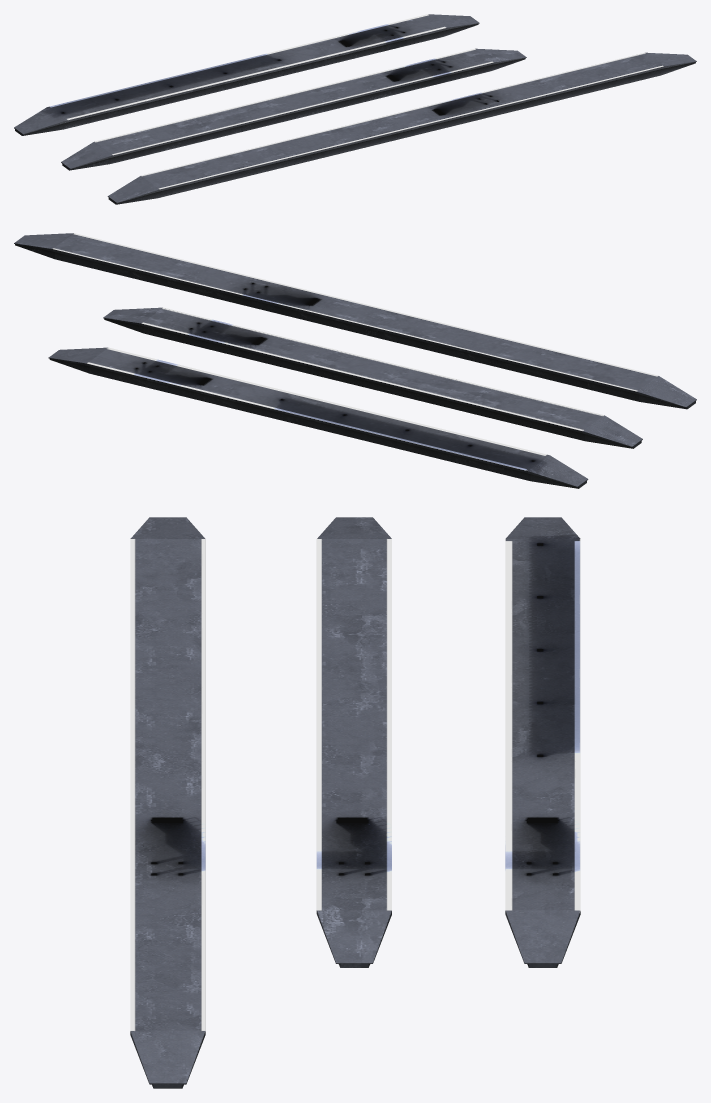
Rendered from station.gltf.
The picture shows the model from 3 angles, top to bottom: view 1: azimuth 30°, elevation 25°; view 2: azimuth 150°, elevation 25°; view 3: azimuth 270°, elevation 25°; orthographic projection. The views are drawn at different scales.
Parts seen in each view (by area): view 1: Cube.014; view 2: Cube.014; view 3: Cube.014.
Boxes of the visible parts, <box> form: Cube.014: <box>14,14,696,204</box>; Cube.014: <box>14,233,696,488</box>; Cube.014: <box>130,517,580,1088</box>.
Size of the model in its own units: 23.48 by 0.4 by 7.89.
Materials: 1 (1 with a texture image).
